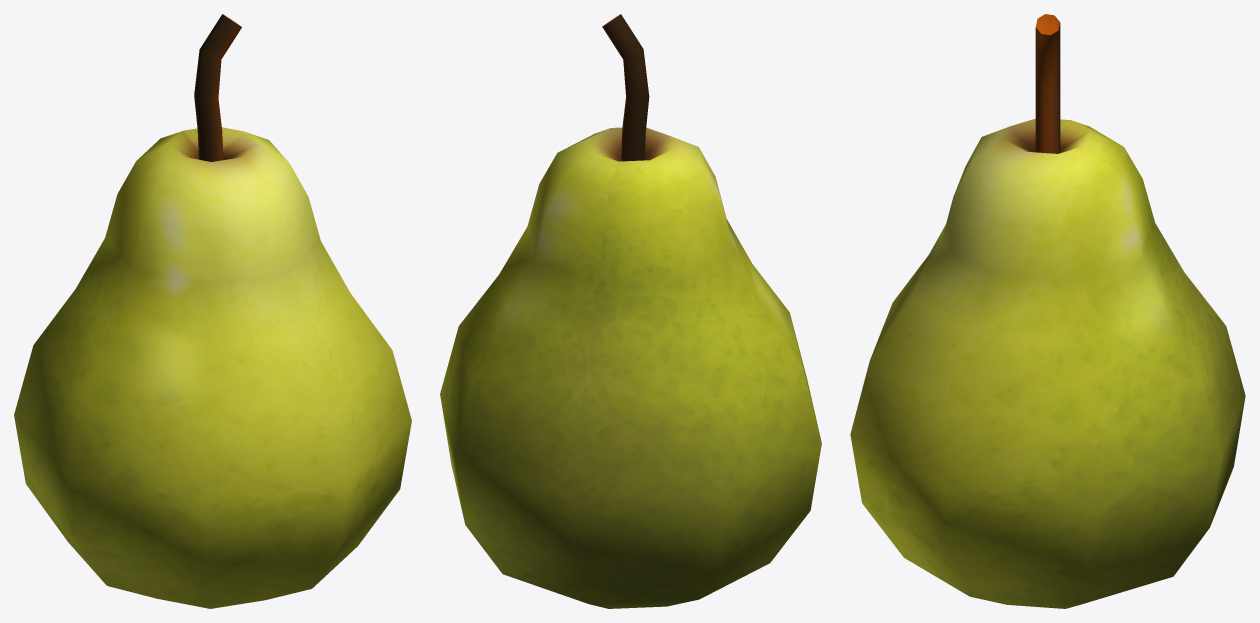
The model's file is Pear.fbx.
3 views of the same model, side by side, from view 1: azimuth 30°, elevation 25°; view 2: azimuth 150°, elevation 25°; view 3: azimuth 270°, elevation 25° (orthographic).
Parts seen in each view (by area): view 1: Pear; view 2: Pear; view 3: Pear.
Boxes of the visible parts, x1,y1,x2,y2 form: Pear: (14,14,411,608); Pear: (440,14,821,608); Pear: (850,14,1245,608).
Bounding box in the file's own units: 26.96 × 43.58 × 26.96.
